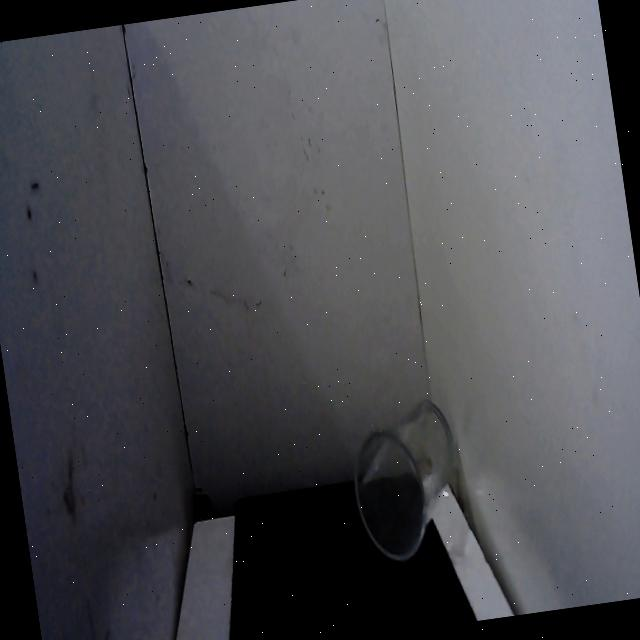vidro: (336, 384, 479, 583)
